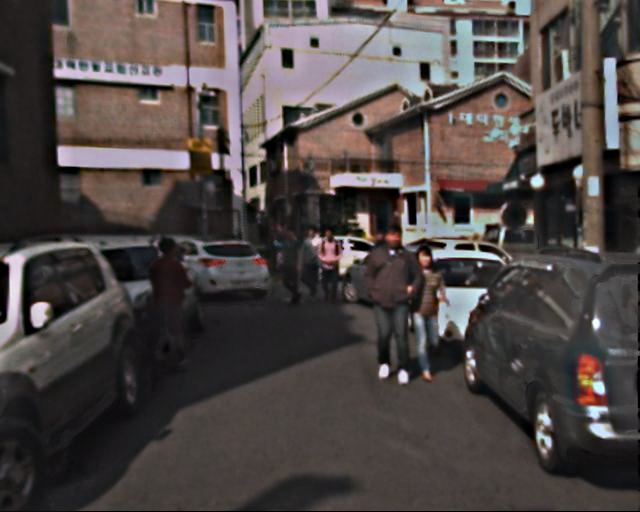person: (364, 230, 428, 386), (398, 246, 453, 380), (140, 236, 195, 369), (315, 226, 347, 303), (276, 228, 306, 302), (298, 228, 327, 299), (273, 221, 290, 265)
